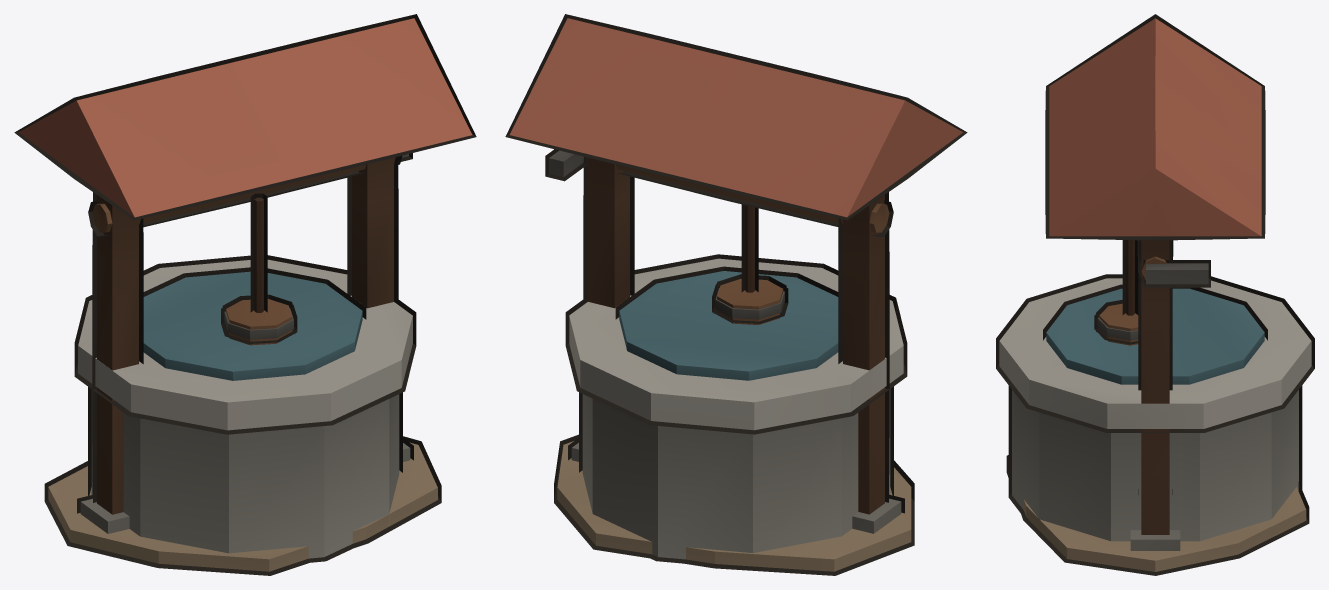
The model's file is puits.glb.
3 renders of one model, left to right at view 1: azimuth 30°, elevation 25°; view 2: azimuth 150°, elevation 25°; view 3: azimuth 270°, elevation 25°, orthographic. The views are drawn at different scales.
Parts seen in each view (by area): view 1: puits, puits_outline; view 2: puits, puits_outline; view 3: puits, puits_outline.
Boxes of the visible parts, x1,y1,x2,y2 form: puits: (18,18,472,571); puits_outline: (14,14,476,575); puits: (509,18,963,571); puits_outline: (505,14,967,575); puits: (999,18,1311,571); puits_outline: (996,14,1314,575).
Size of the model in its own units: 1.2 by 1.44 by 1.02.
